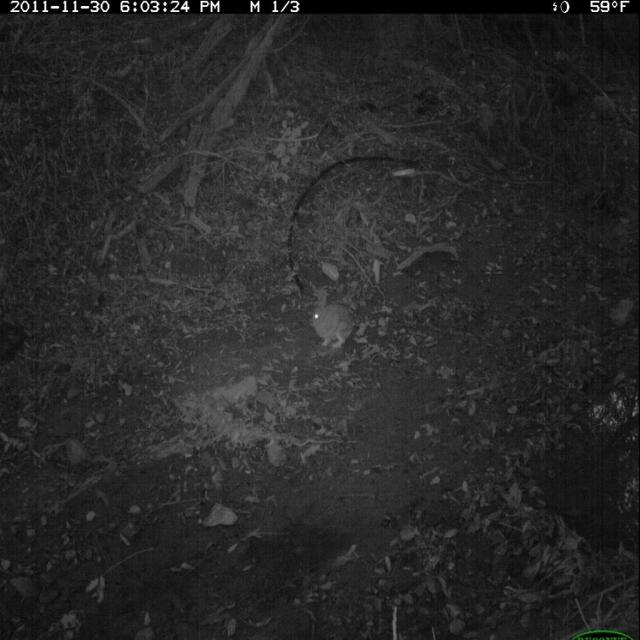rabbit: (309, 282, 358, 351)
